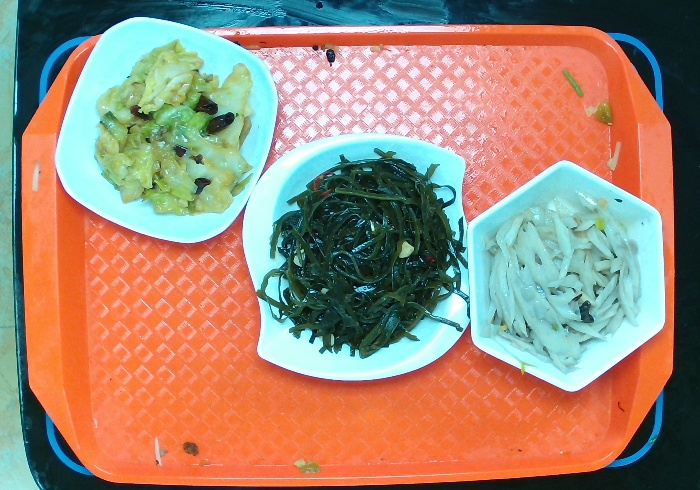RJxy-Liu_Jiao_Wan: (465, 158, 667, 394)
RJxy-Shuang_Jiao_Pan: (240, 132, 471, 381)
RJxy-Si_Fang_Wan: (53, 15, 279, 244)
